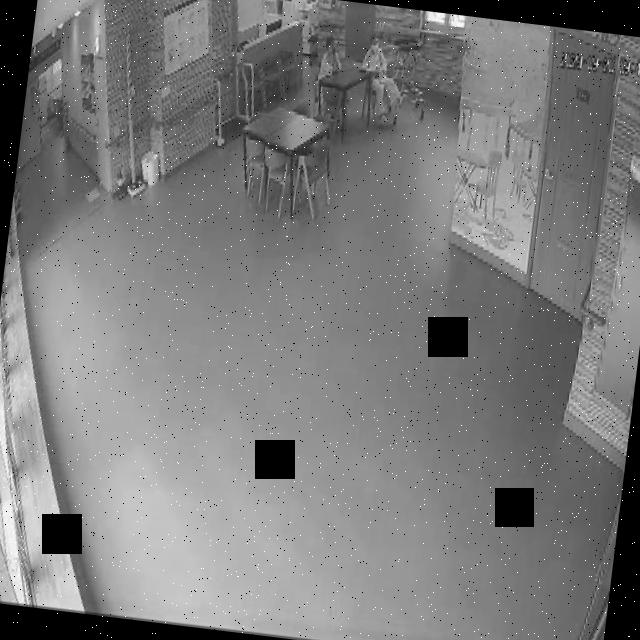patient: (352, 34, 412, 131), (310, 26, 346, 83)
sit: (352, 34, 411, 130)
walker: (379, 31, 436, 127)
